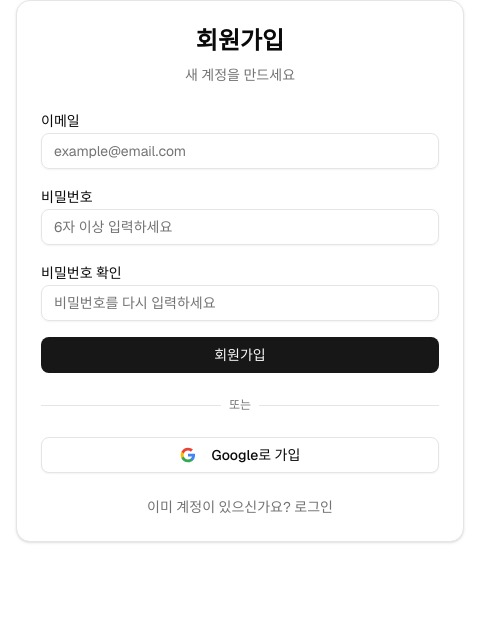
it: SignupForm › shows validation error when passwords do not match
The width and height of the screenshot is (481, 620).
Step 1. Type "test@example.com" into the field labelled "이메일" → (240, 151), box [41,133,439,169]
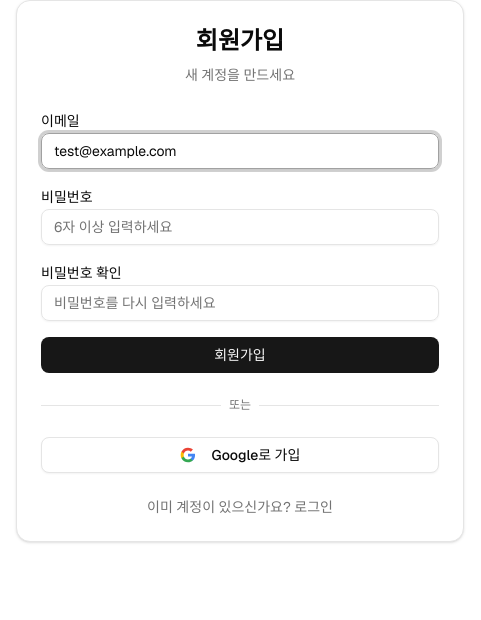
Step 2. Type "password123" into the password field labelled "비밀번호" → (240, 227), box [41,209,439,245]
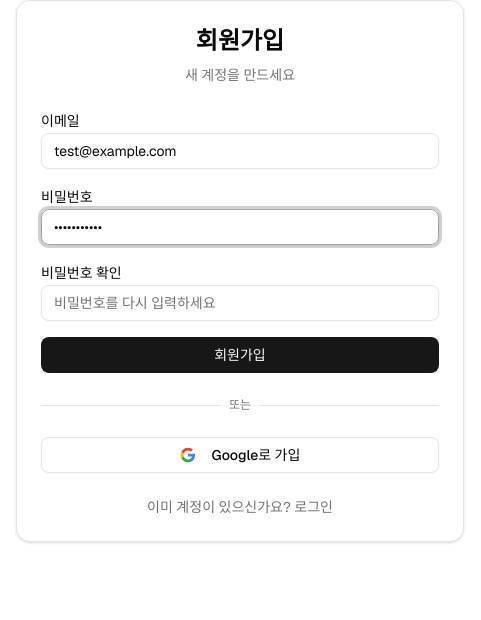
Step 3. Type "different" into the password field labelled "비밀번호 확인" → (240, 303), box [41,285,439,321]
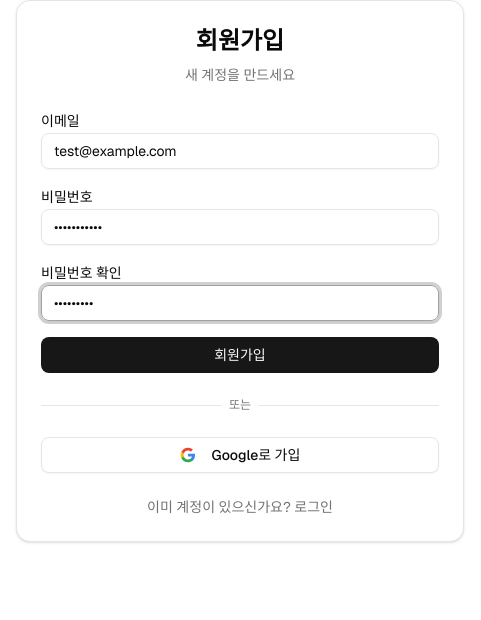
Step 4. Click the button "회원가입" → (240, 355), box [41,337,439,373]
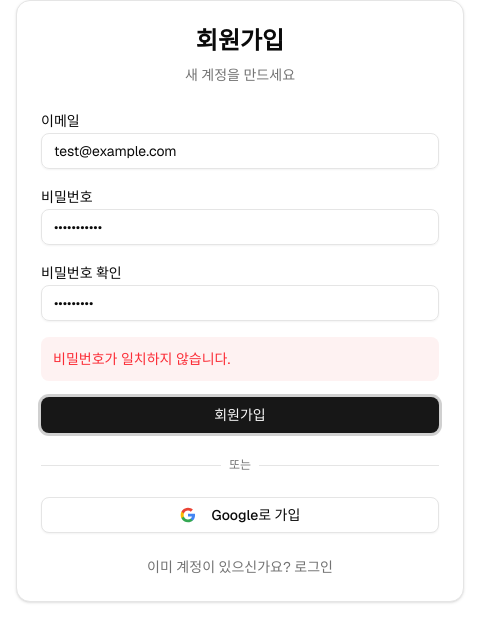
Result: the text "비밀번호가 일치하지 않습니다." is shown at [41,337,439,381]
